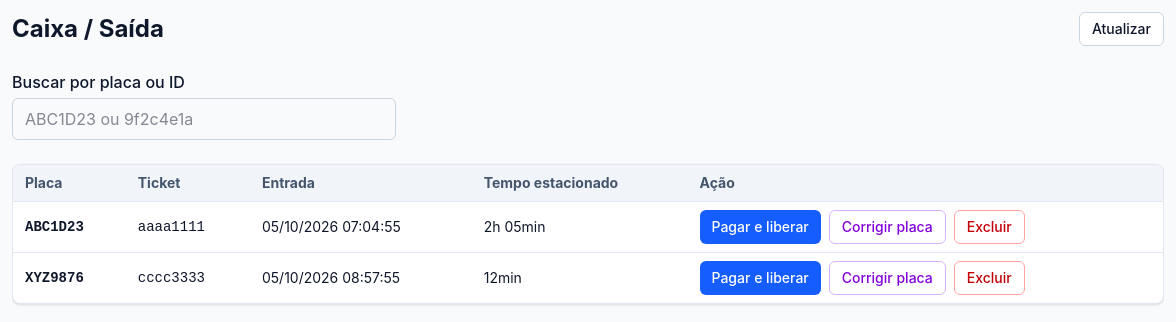
Test: PaymentPage › busca por placa normalizada e por prefixo de ID
Expected: the table is shown, [13,165,1163,303]
Type "abc-1d23" into the search field labelled "Buscar por placa ou ID".
click(204, 119); type("abc-1d23")  # box [12,98,396,140]
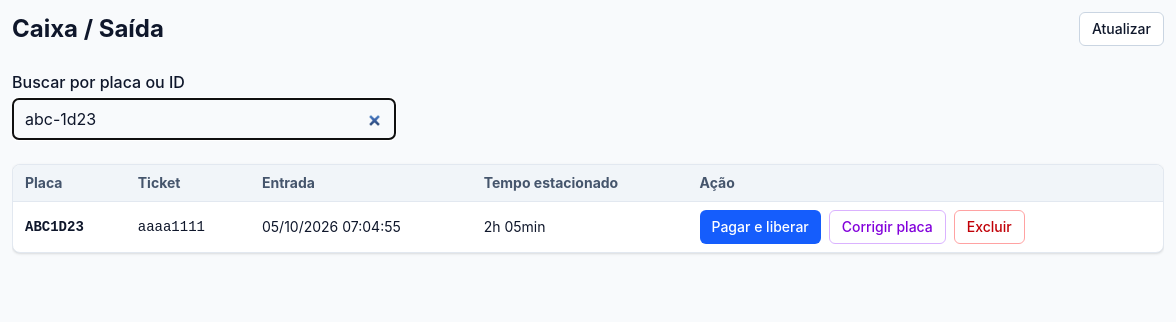
Expected: the text "ABC1D23" is shown, [13,202,126,252]
Replace the text in the search field labelled "Buscar por placa ou ID" with "CCCC33" at [204, 119], box [12,98,396,140]
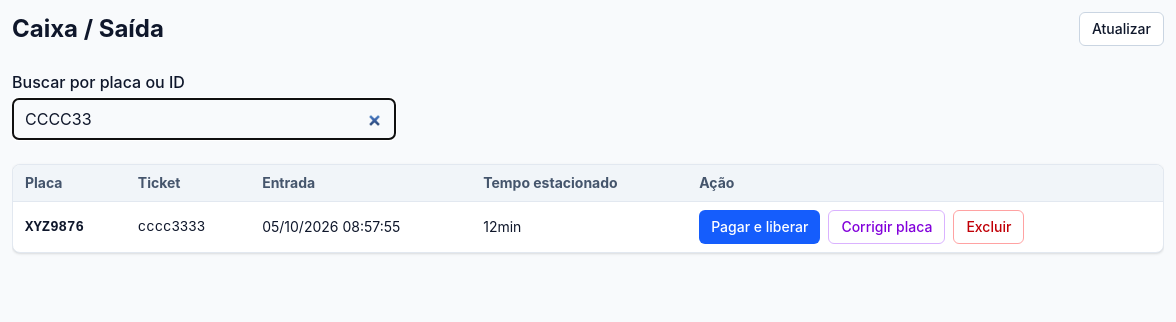
Result: the text "XYZ9876" is shown at [13,202,126,252]
Replace the text in the search field labelled "Buscar por placa ou ID" with "zzz" at [204, 119], box [12,98,396,140]
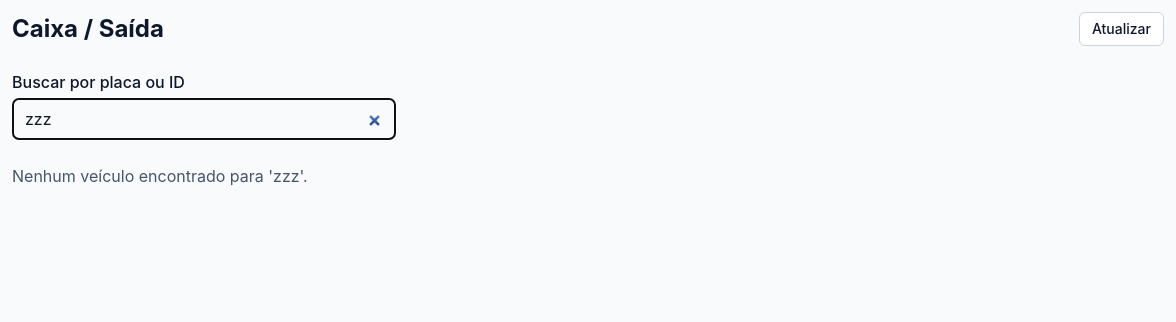
Result: the text "Nenhum veículo encontrado para 'zzz'." is shown at [12,166,308,186]
